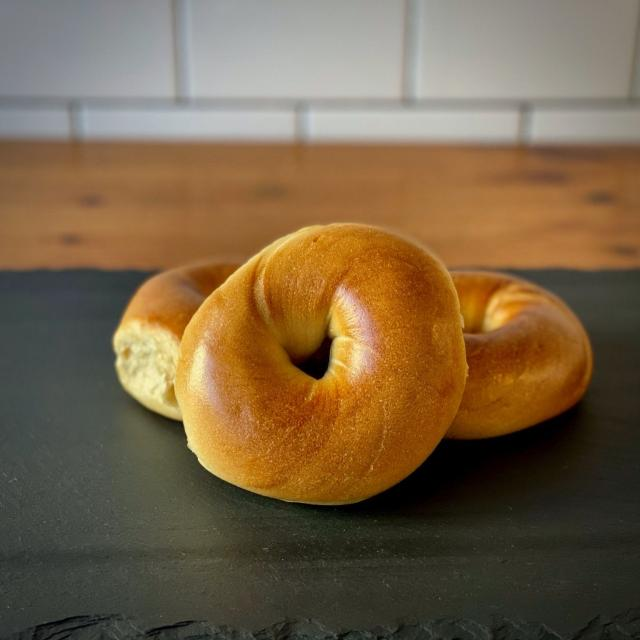Bagel: (175, 224, 468, 504)
